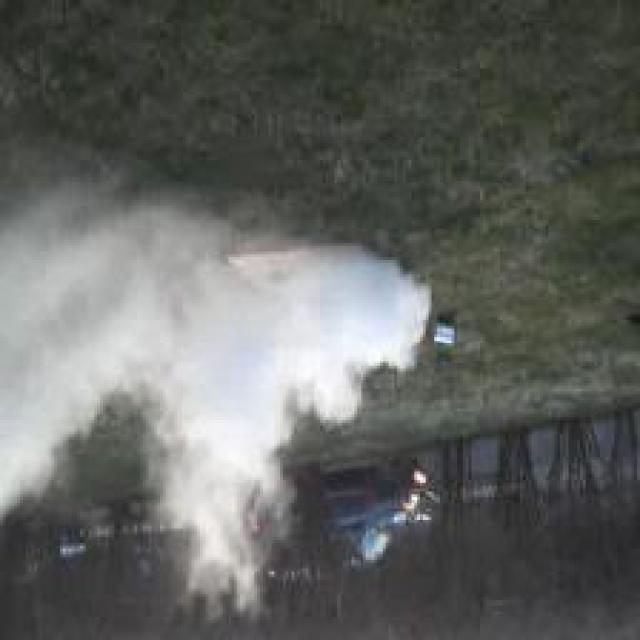Smoke: (0, 161, 437, 629)
